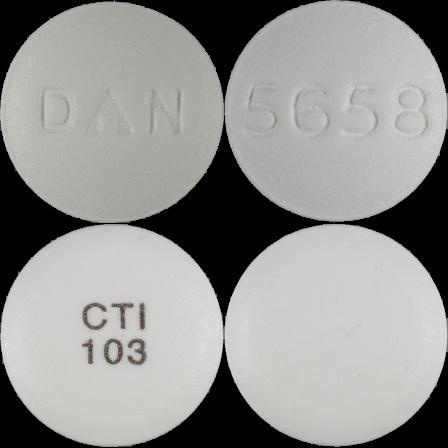60429-052: (0, 0, 224, 224)
